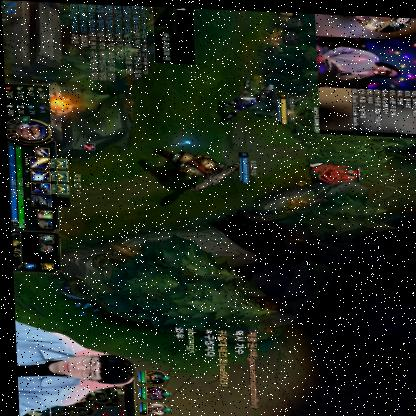donation: (308, 11, 416, 135)
streamer: (11, 318, 134, 416)
